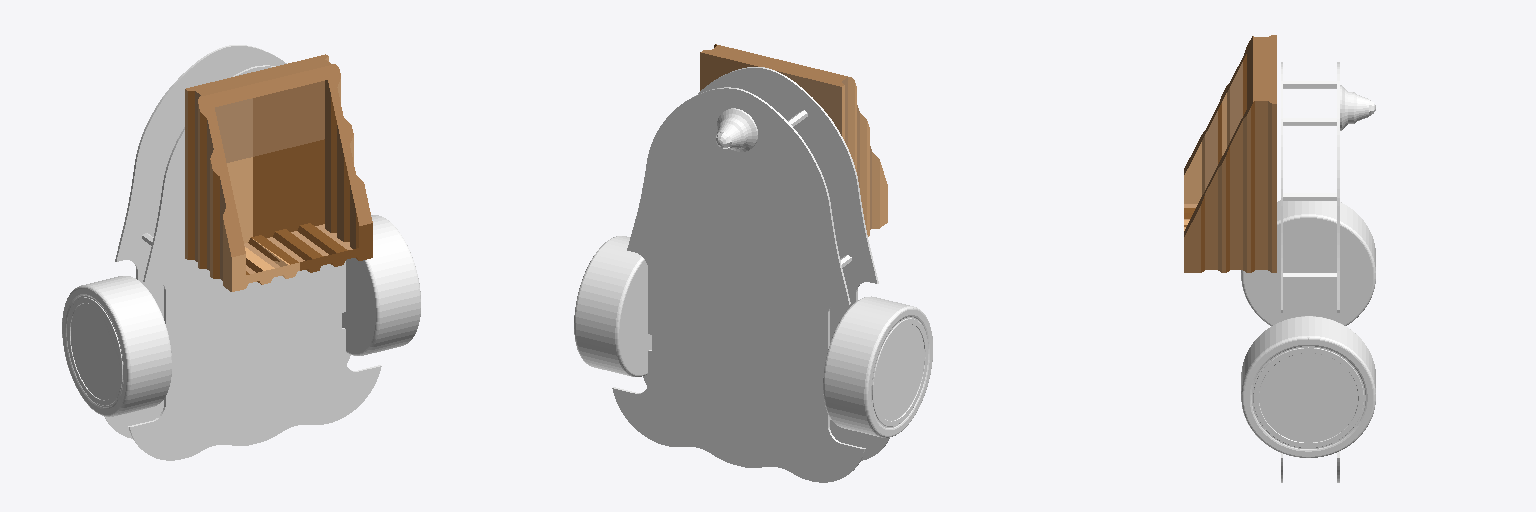
The picture shows the model from 3 angles: view 1: azimuth 30°, elevation 25°; view 2: azimuth 150°, elevation 25°; view 3: azimuth 270°, elevation 25°; orthographic projection.
Bounding box in the file's own units: 0.1634 × 0.1997 × 0.0925.
Materials: 2 (1 with a texture image).